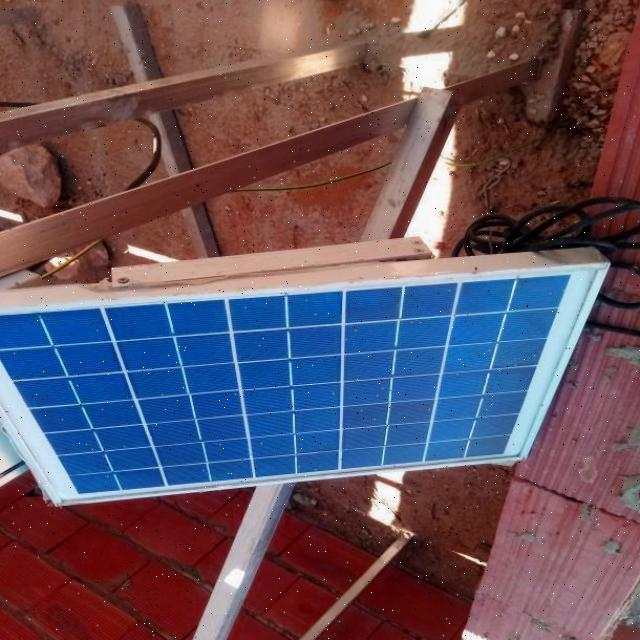Normal Solar Panel: (0, 268, 605, 517)
